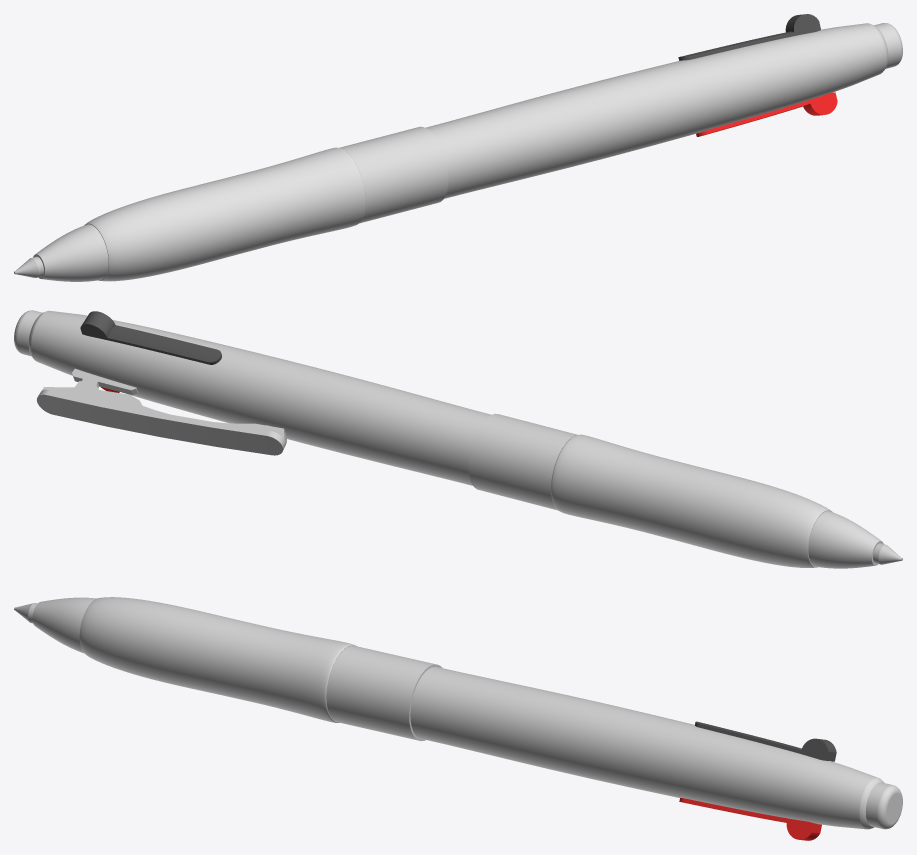
Rendered from 194_2色ボールペン.glb.
3 views of the same model, one above another, from view 1: azimuth 30°, elevation 25°; view 2: azimuth 150°, elevation 25°; view 3: azimuth 330°, elevation 25° (orthographic).
Parts seen in each view (by area): view 1: body; view 2: body; view 3: body.
Boxes of the visible parts, left/top/right/bottom form: body: left=14, top=14, right=902, bottom=281; body: left=14, top=310, right=902, bottom=568; body: left=14, top=597, right=902, bottom=840.
Size of the model in its own units: 0.1381 by 0.0137 by 0.0163.
